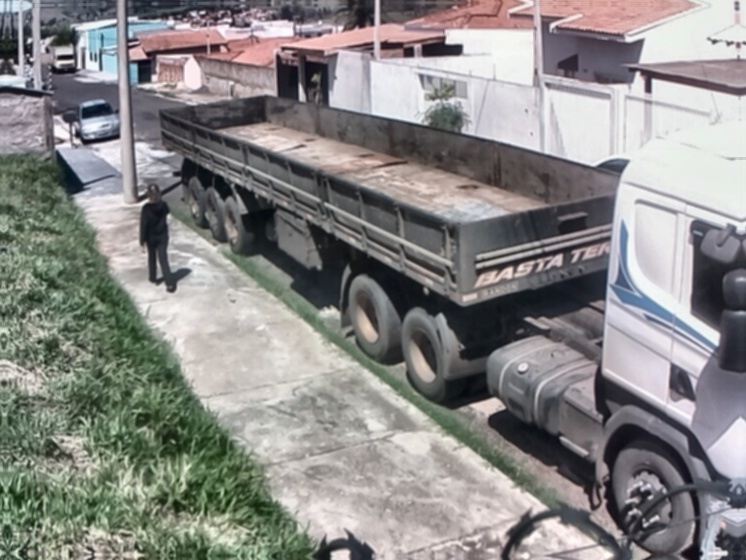person: (138, 182, 179, 292)
